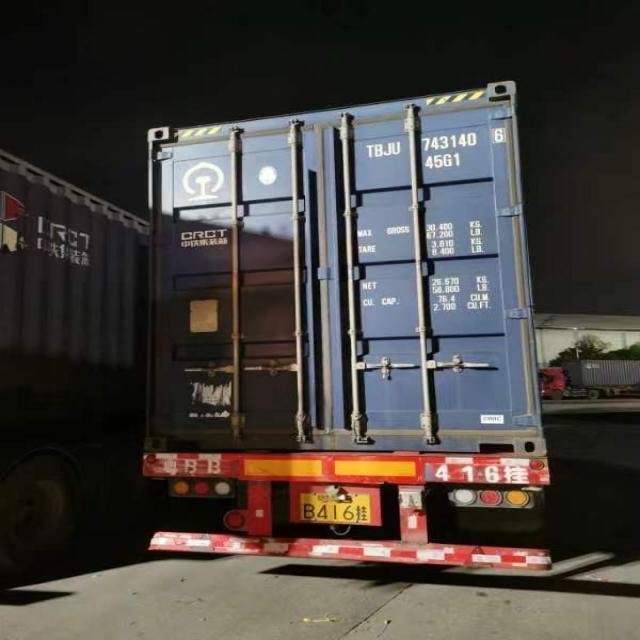ISO: (425, 152, 463, 170)
container_number: (364, 128, 506, 152)
